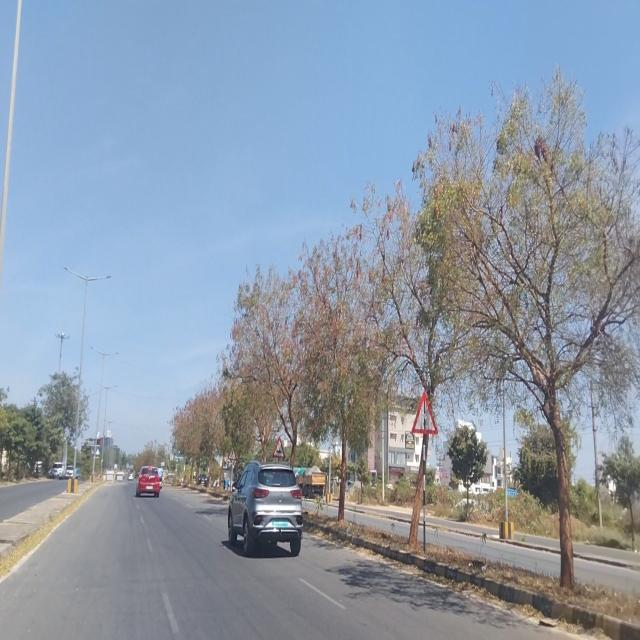bien_cam: (411, 390, 438, 436), (272, 436, 286, 459)
